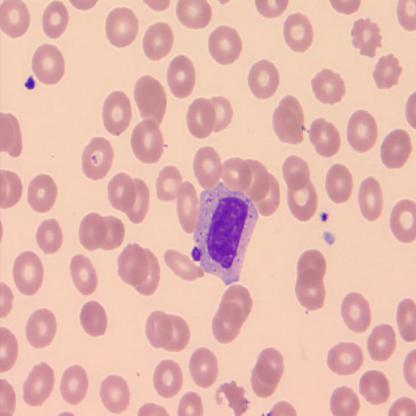Myelocyte: (193, 181, 256, 284)
